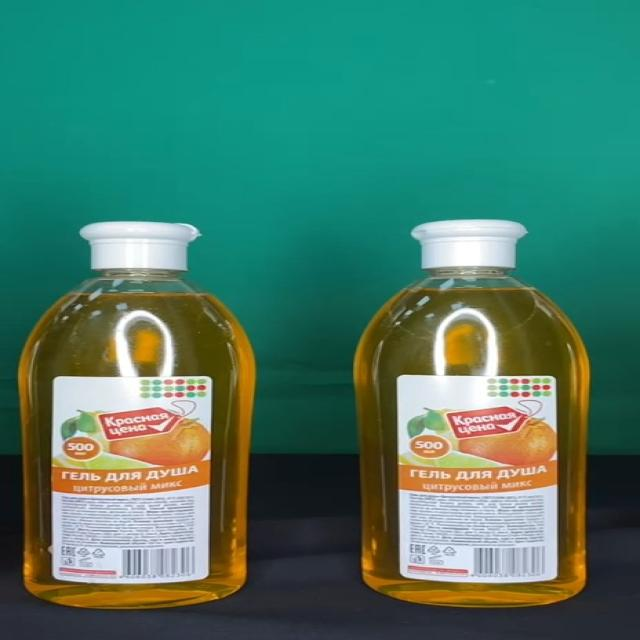Bottle: (17, 222, 257, 610), (355, 220, 590, 608)
Cap: (79, 222, 203, 271), (410, 220, 528, 267)
